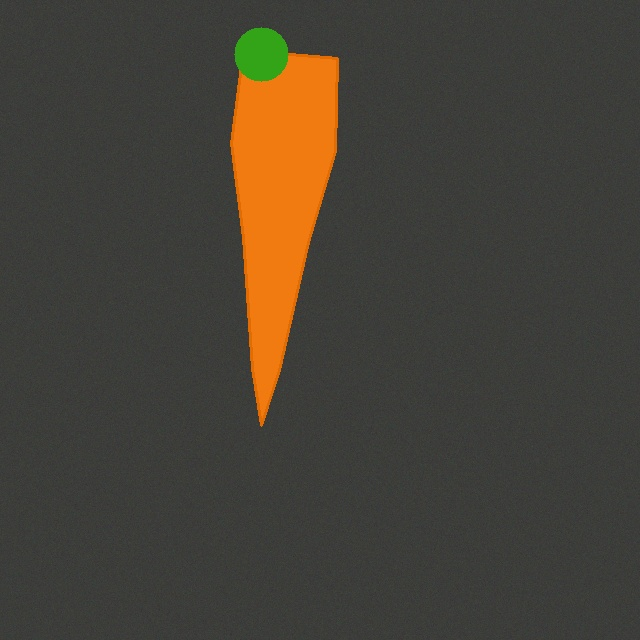Good_Carrot: (223, 42, 345, 433)
